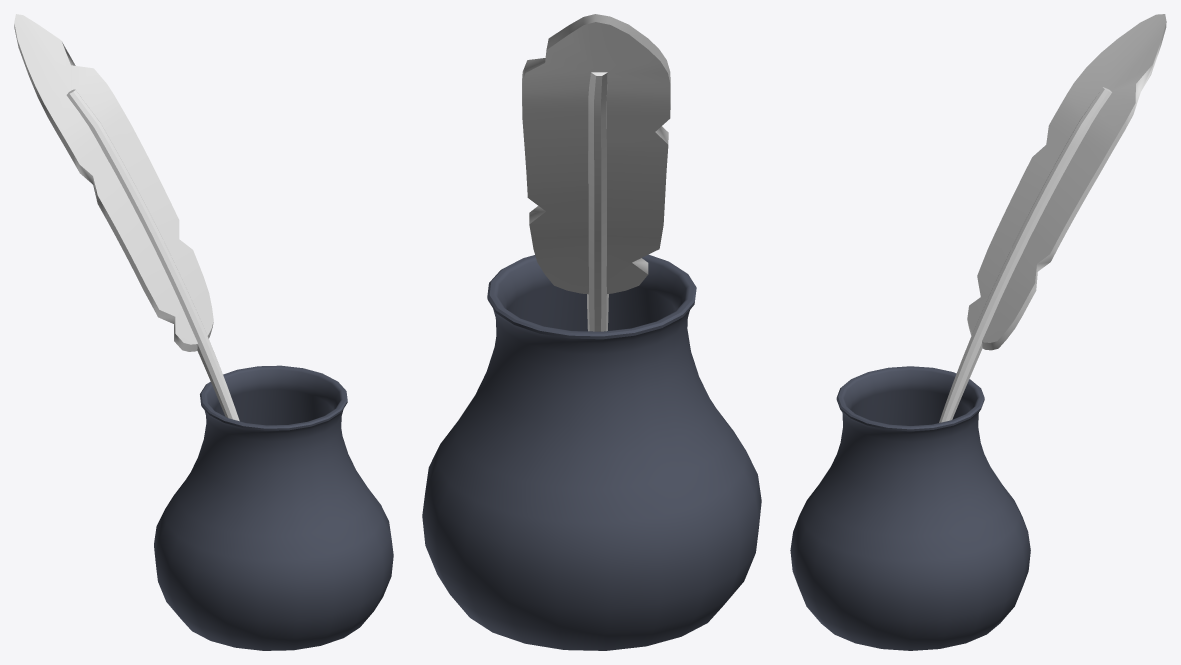
Rendered from mainRoom_ink.fbx.
3 renders of one model, left to right at view 1: azimuth 30°, elevation 25°; view 2: azimuth 150°, elevation 25°; view 3: azimuth 270°, elevation 25°, orthographic. The views are drawn at different scales.
Visible parts, largest first — view 1: ink; view 2: ink; view 3: ink.
Part boxes in pixels (x1,y1,x2,y2): ink: (14, 14, 393, 650); ink: (422, 14, 761, 650); ink: (790, 14, 1166, 650).
Size of the model in its own units: 2.45 by 5.11 by 3.23.
